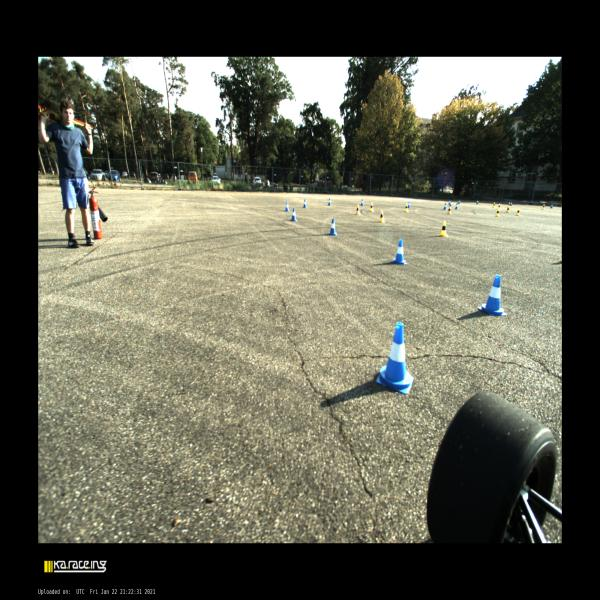blue_cone: (377, 322, 413, 393), (477, 274, 507, 315), (391, 239, 407, 264), (329, 218, 338, 235), (290, 207, 297, 221), (285, 202, 289, 211), (303, 199, 307, 208), (360, 198, 364, 206), (328, 198, 332, 205), (443, 203, 446, 209), (408, 200, 410, 208), (448, 201, 451, 206), (455, 203, 457, 209), (550, 204, 553, 208), (510, 201, 512, 206), (458, 200, 460, 204), (476, 200, 478, 204)
yellow_cone: (438, 220, 448, 237), (378, 210, 385, 223), (369, 202, 374, 212), (356, 205, 360, 215), (404, 204, 409, 212), (515, 208, 519, 216), (448, 206, 451, 214), (496, 209, 499, 216), (506, 206, 509, 212), (498, 204, 501, 209), (493, 202, 495, 208), (542, 204, 544, 209)
